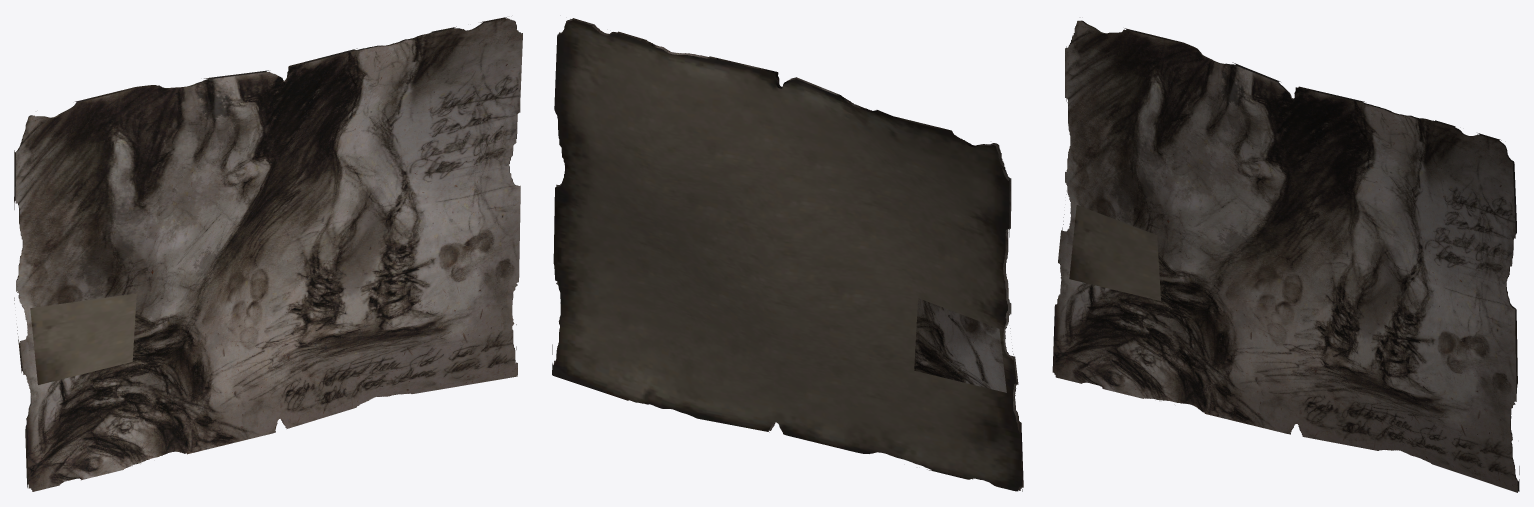
File: transformation_poster02.dae
3 views of the same model, side by side, from view 1: azimuth 30°, elevation 25°; view 2: azimuth 150°, elevation 25°; view 3: azimuth 330°, elevation 25° (orthographic). The views are drawn at different scales.
Visible parts, largest first — view 1: pPlane1, pPlane2; view 2: pPlane2, pPlane1; view 3: pPlane1, pPlane2.
Boxes of the visible parts, x1,y1,x2,y2 form: pPlane1: [15, 18, 522, 491]; pPlane2: [14, 17, 520, 489]; pPlane2: [552, 19, 1022, 491]; pPlane1: [553, 18, 1023, 490]; pPlane1: [1052, 20, 1517, 492]; pPlane2: [1054, 20, 1519, 491].
Bounding box in the file's own units: 0.6 × 0.4315 × 0.0508.
